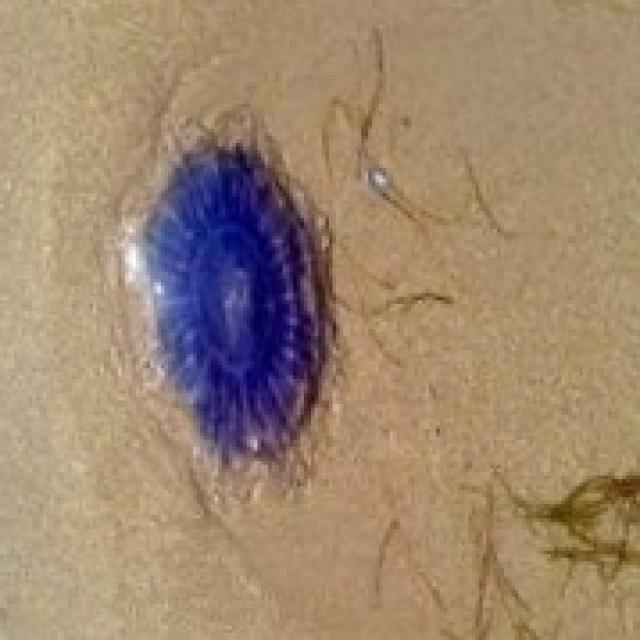Human: (118, 103, 340, 476)
